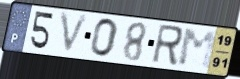0: (87, 17, 122, 58)
5: (29, 10, 55, 50)
8: (120, 21, 148, 63)
M: (177, 28, 219, 72)
R: (149, 23, 186, 68)
V: (58, 11, 92, 57)
